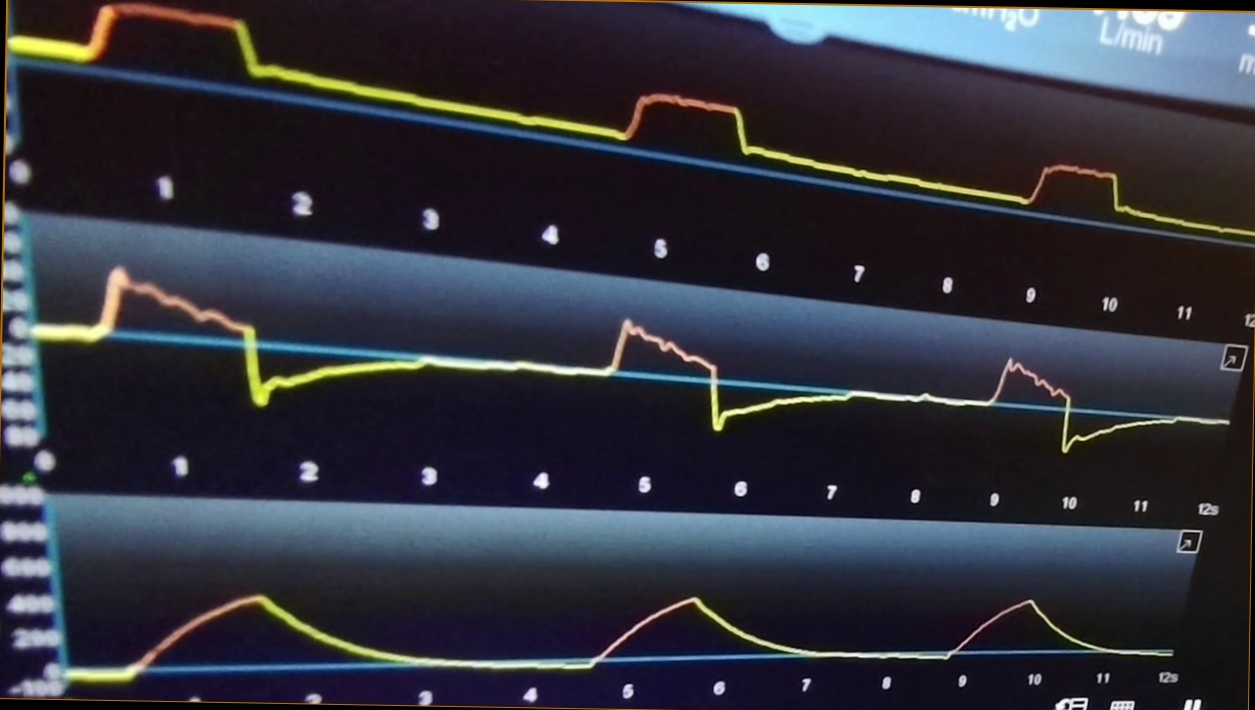Accumulation Flow: (49, 264, 1227, 454)
Volume: (74, 561, 1172, 685)
